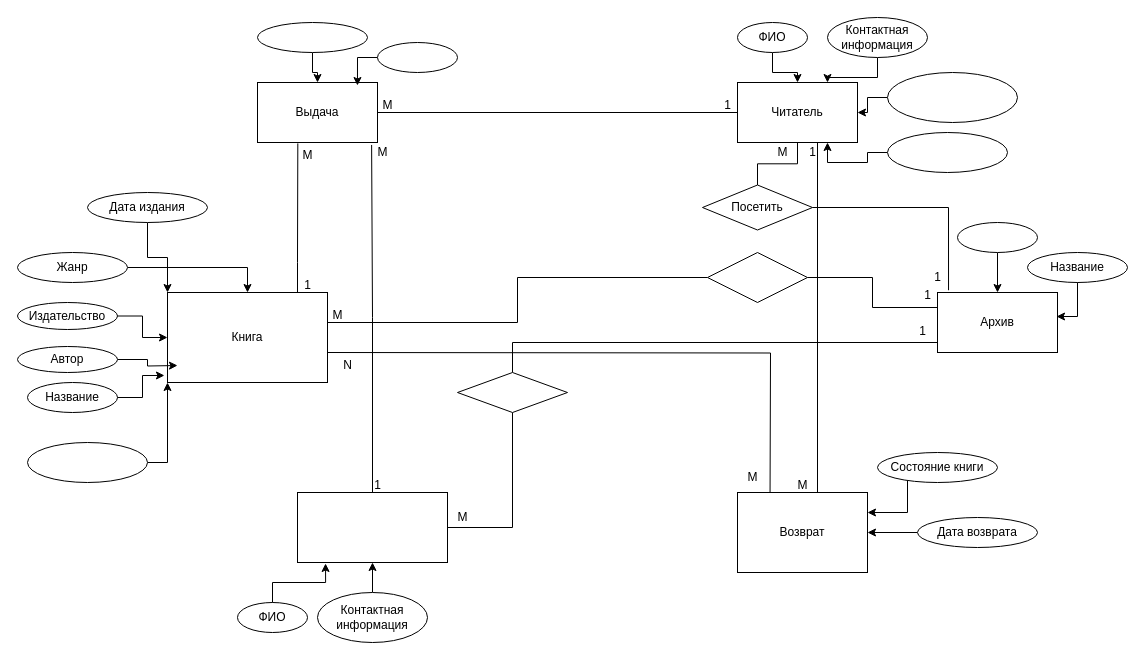
Image size: 1145x660. Some labels were removed from this diagram. Here are the shapes that lost their labels. From the top down, the centre of each, then its label:
point (312, 37): Дата выдачи
point (417, 57): Срок
point (952, 97): Номер читательского билета
point (947, 152): Дата рождения
point (997, 237): Адрес
point (757, 277): Храниться
point (512, 392): Работать
point (87, 462): Количество страниц
point (372, 527): Библиотекарь
